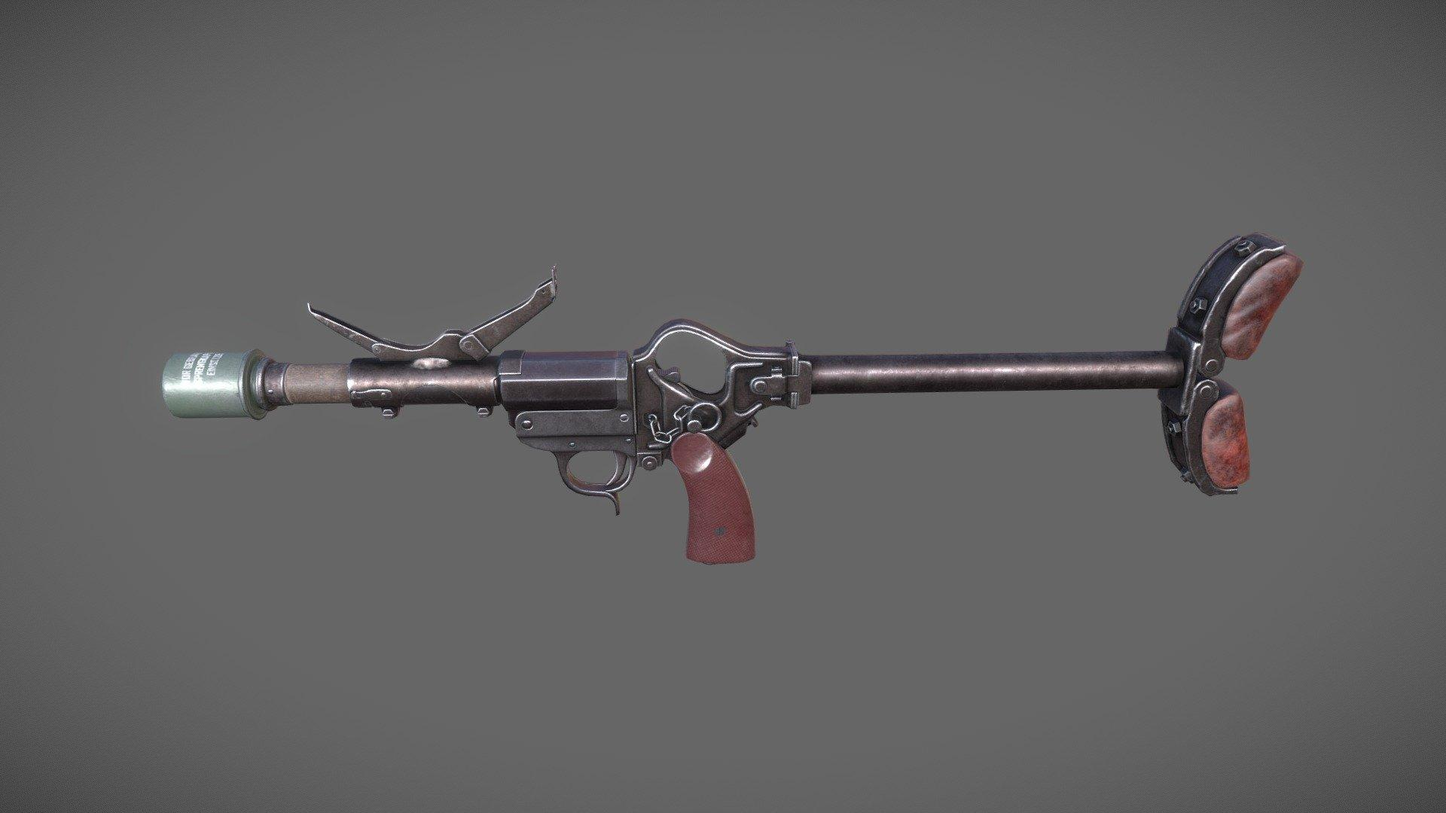Pistol: (139, 232, 1322, 577)
